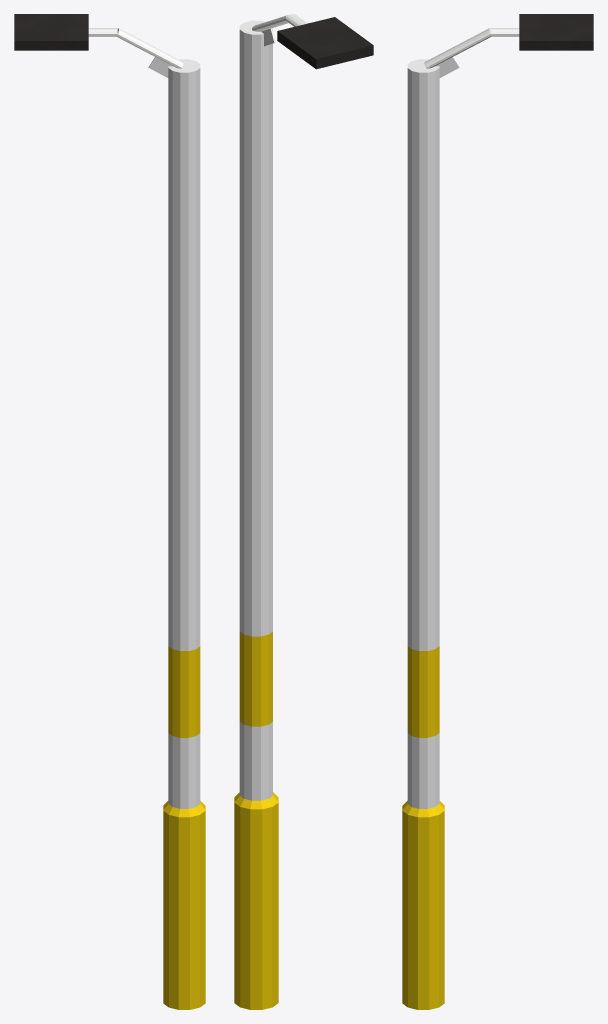
The model's file is bee_network_station_light.obj.
3 views of the same model, side by side, from view 1: azimuth 90°, elevation 25°; view 2: azimuth 210°, elevation 25°; view 3: azimuth 270°, elevation 25° (orthographic). The views are drawn at different scales.
Visible parts, largest first — view 1: cylinder, cube; view 2: cylinder, cube, cone; view 3: cylinder, cube.
Part boxes in pixels (x1,y1,x2,y2): cylinder: [88, 28, 205, 1009]; cube: [14, 14, 172, 77]; cylinder: [234, 14, 307, 1009]; cube: [261, 17, 373, 69]; cone: [234, 792, 278, 809]; cylinder: [402, 28, 519, 1009]; cube: [435, 14, 593, 77].
Size of the model in its own units: 0.375 by 6.31 by 1.12.
